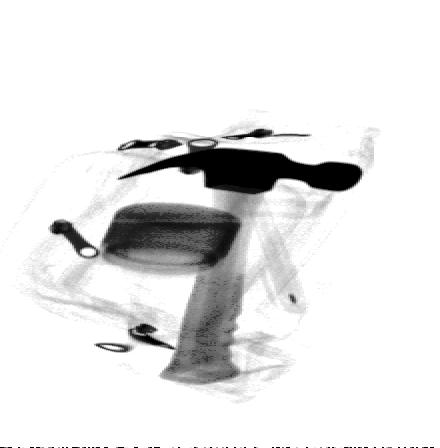Hammer: (113, 146, 364, 386)
